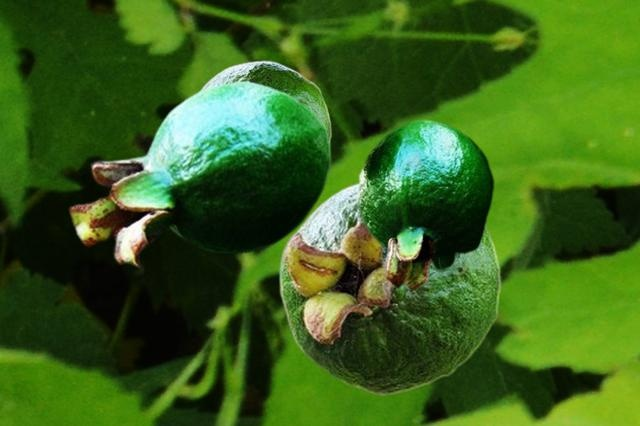guava: (68, 79, 331, 268), (278, 180, 501, 395), (357, 118, 494, 290), (200, 60, 331, 141)
